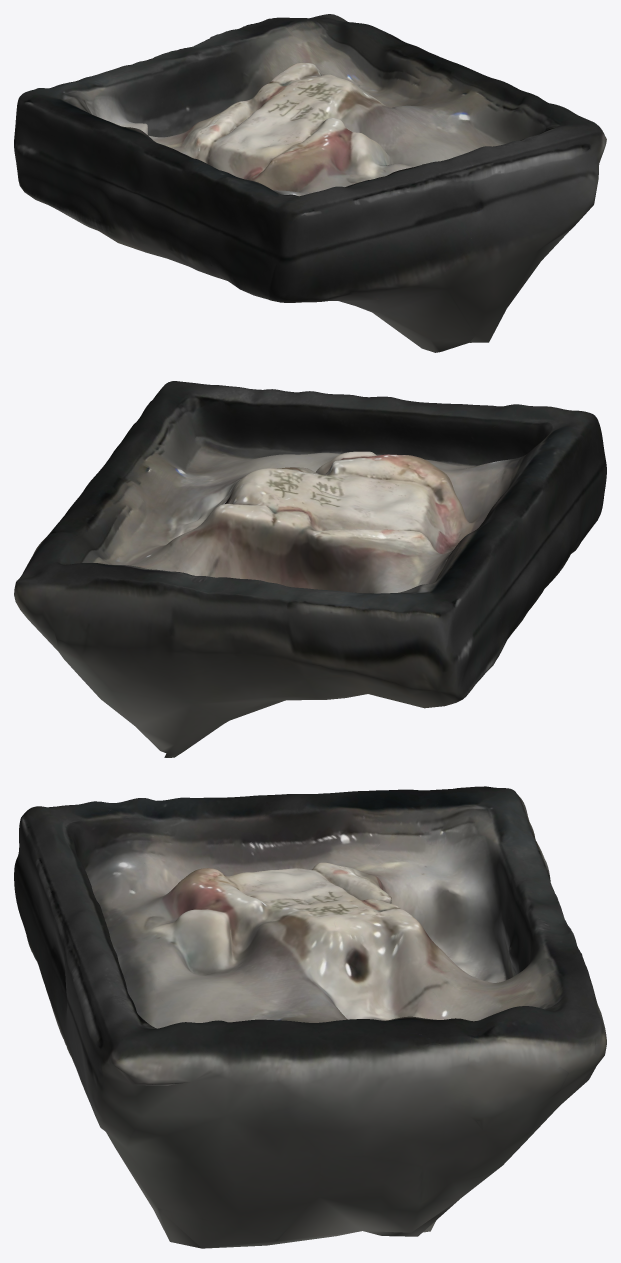
3 views of the same model, one above another, from view 1: azimuth 30°, elevation 25°; view 2: azimuth 150°, elevation 25°; view 3: azimuth 270°, elevation 25° (orthographic). The views are drawn at different scales.
Size of the model in its own units: 0.7305 by 0.3999 by 0.722.
Materials: 1 (1 with a texture image).
